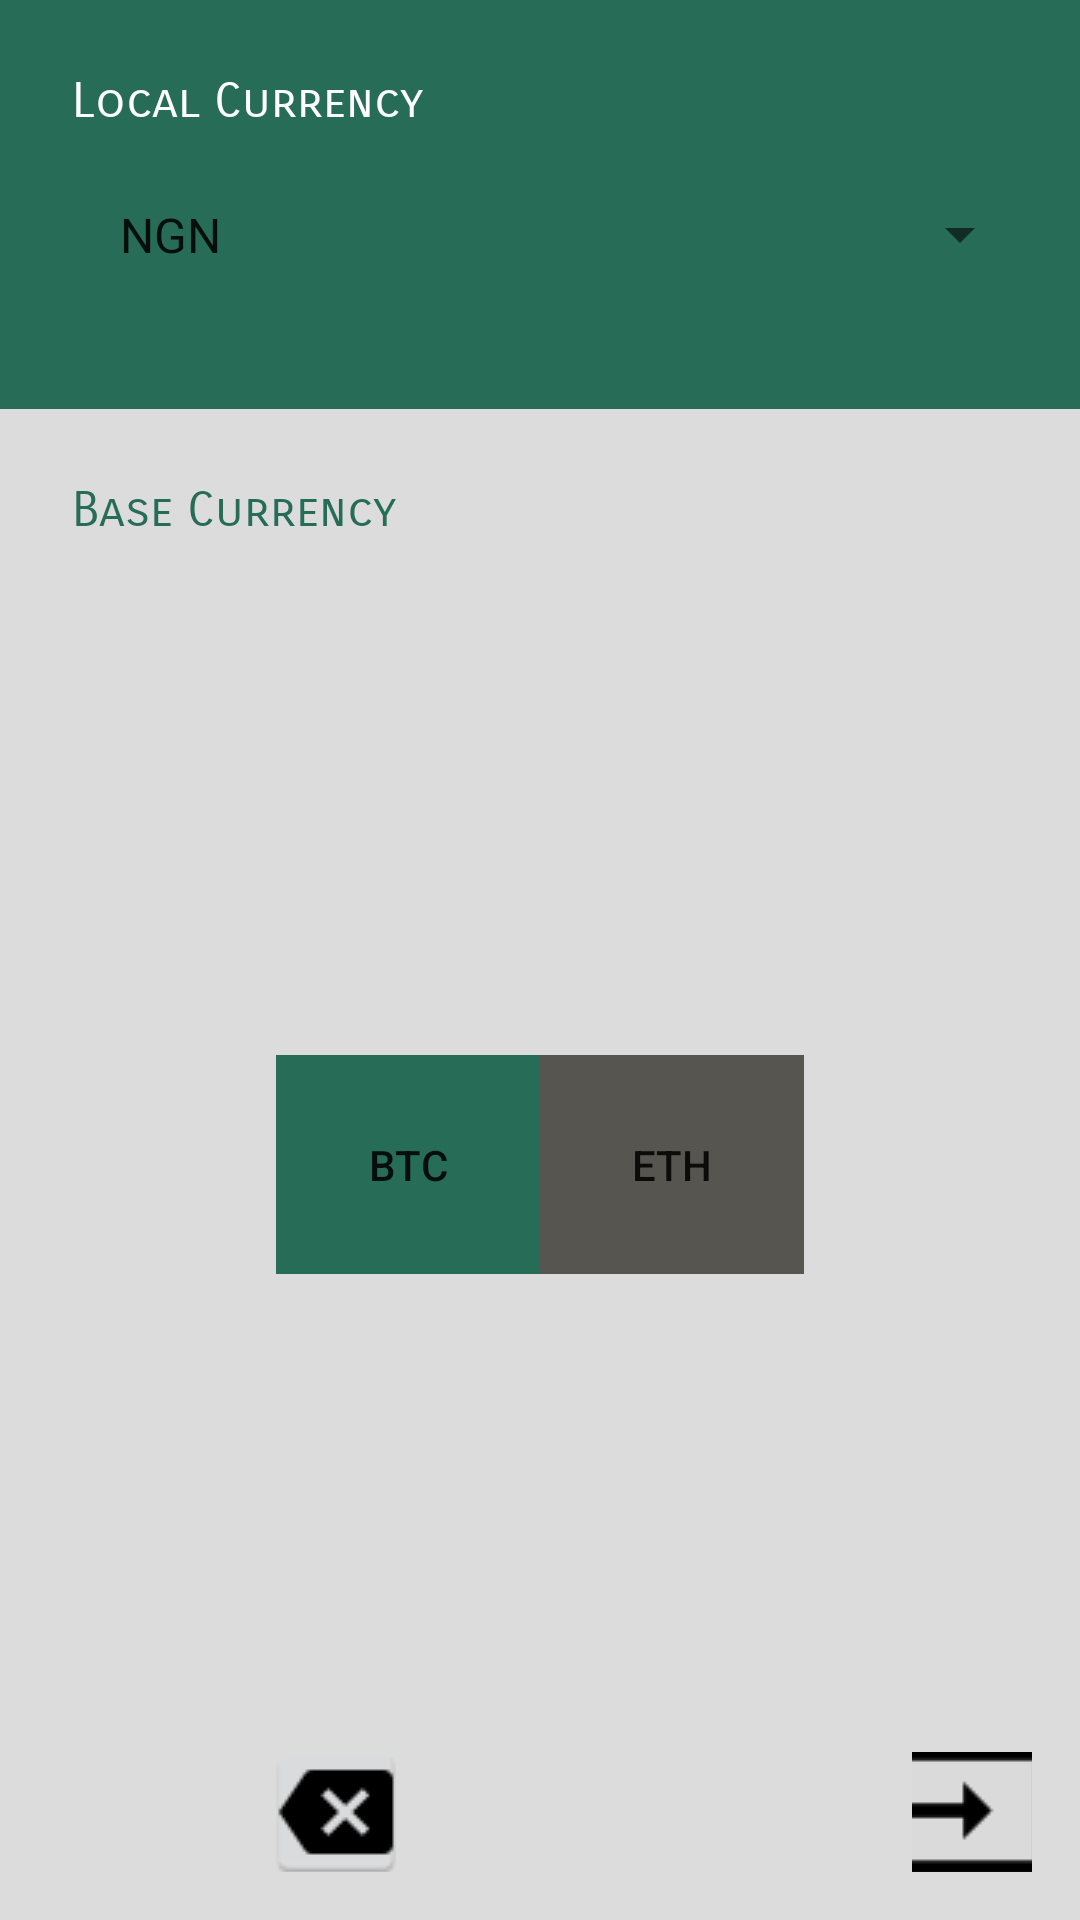

Named icons in this screenshot (1080px x 1920px) and their bounding boxes, bbox=[x1, y1, x2, y2]:
cancel: bbox=[278, 1769, 394, 1872]
